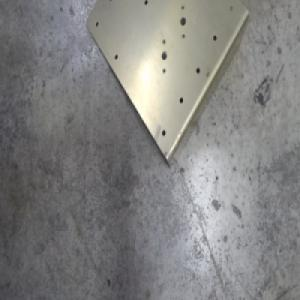MetalSheet: (86, 0, 250, 171)
